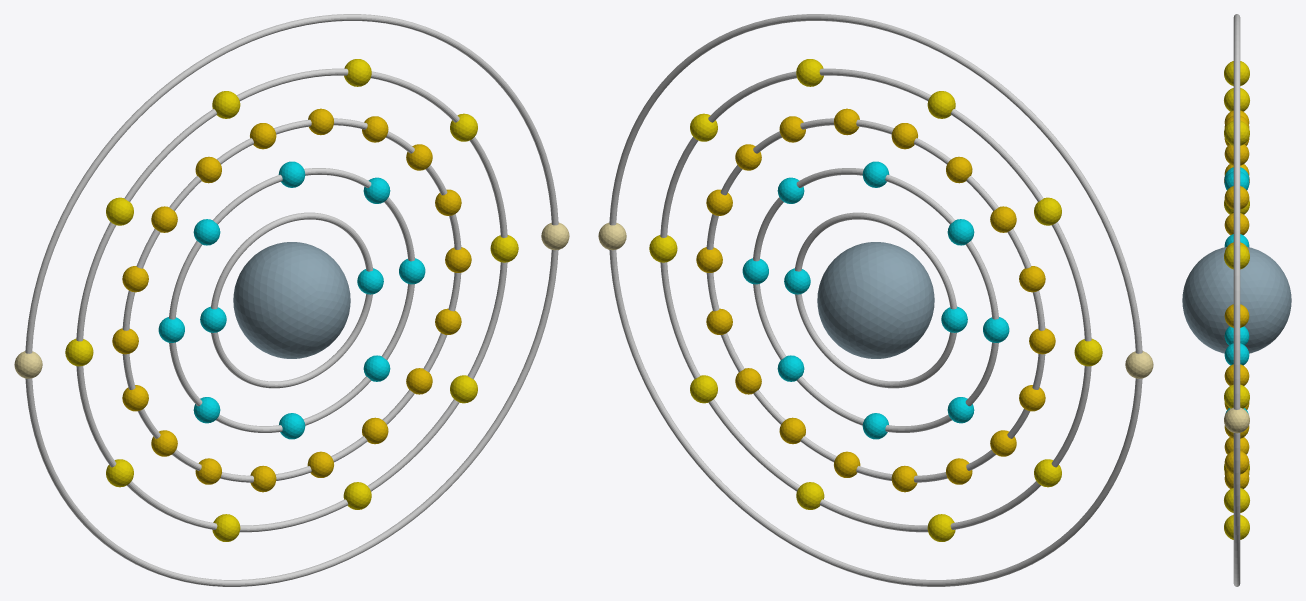
The picture shows the model from 3 angles, left to right: view 1: azimuth 30°, elevation 25°; view 2: azimuth 150°, elevation 25°; view 3: azimuth 270°, elevation 25°; orthographic projection. The views are drawn at different scales.
Parts seen in each view (by area): view 1: Camada_5, Nucleo_Zr, Camada_4, Camada_3, Camada_2, Camada_1; view 2: Camada_5, Nucleo_Zr, Camada_4, Camada_3, Camada_2, Camada_1; view 3: Nucleo_Zr, Camada_5, e5_1, e4_4, e4_9, e4_10, e4_2, e4_3, e4_1, e4_5, e3_4, e3_2 (+9 smaller).
Boxes of the visible parts, x1,y1,x2,y2 form: Camada_5: (25,14,558,586); Nucleo_Zr: (233,242,350,358); Camada_4: (76,68,507,532); Camada_3: (122,118,461,482); Camada_2: (169,168,414,432); Camada_1: (211,212,373,388); Camada_5: (609,14,1142,586); Nucleo_Zr: (817,242,934,358); Camada_4: (660,68,1091,532); Camada_3: (706,118,1045,482); Camada_2: (753,168,998,432); Camada_1: (794,212,956,388); Nucleo_Zr: (1182,247,1291,353); Camada_5: (1233,14,1240,586); e5_1: (1224,407,1249,433); e4_4: (1224,61,1249,85); e4_9: (1224,515,1249,539); e4_10: (1224,488,1249,512); e4_2: (1224,244,1249,269); e4_3: (1224,120,1249,145); e4_1: (1224,384,1249,408); e4_5: (1224,88,1249,111); e3_4: (1224,186,1249,209); e3_2: (1224,304,1249,327).
Bounding box in the file's own units: 2.39 × 2.31 × 0.44.
